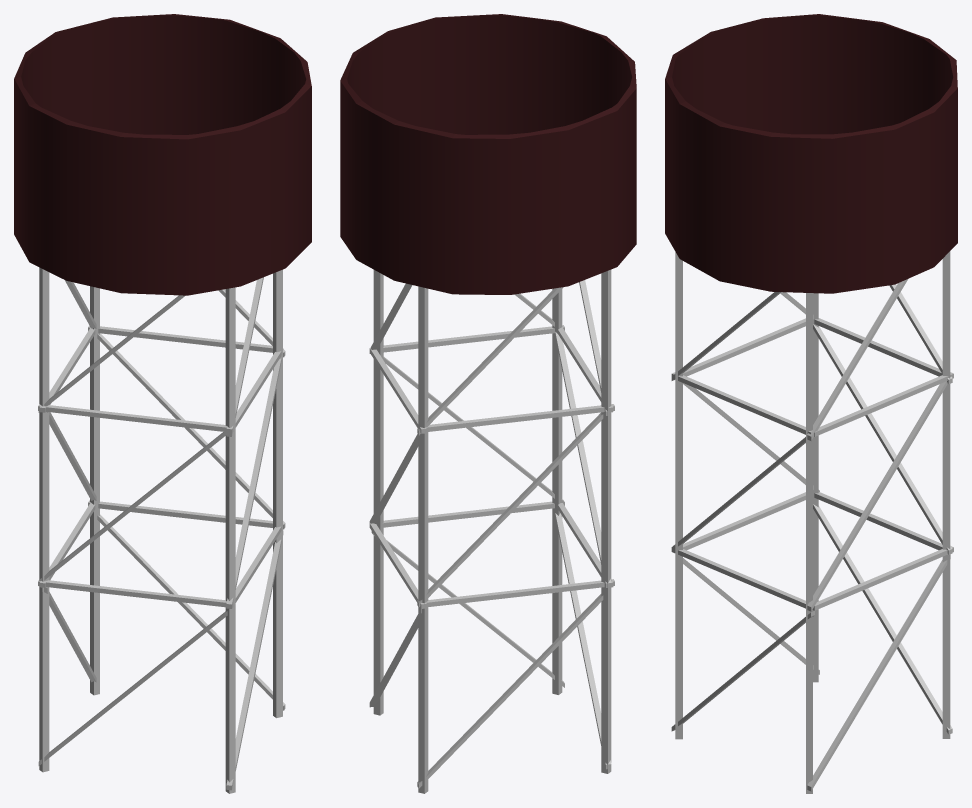
File: watertank.fbx
The picture shows the model from 3 angles, left to right: view 1: azimuth 30°, elevation 25°; view 2: azimuth 150°, elevation 25°; view 3: azimuth 270°, elevation 25°; orthographic projection.
Visible parts, largest first — view 1: RadarSphere; view 2: RadarSphere; view 3: RadarSphere.
Part boxes in pixels (bbox=[...]): RadarSphere: bbox=[14, 14, 311, 793]; RadarSphere: bbox=[340, 14, 636, 793]; RadarSphere: bbox=[665, 14, 957, 793].
Bounding box in the file's own units: 354 × 875 × 351.
